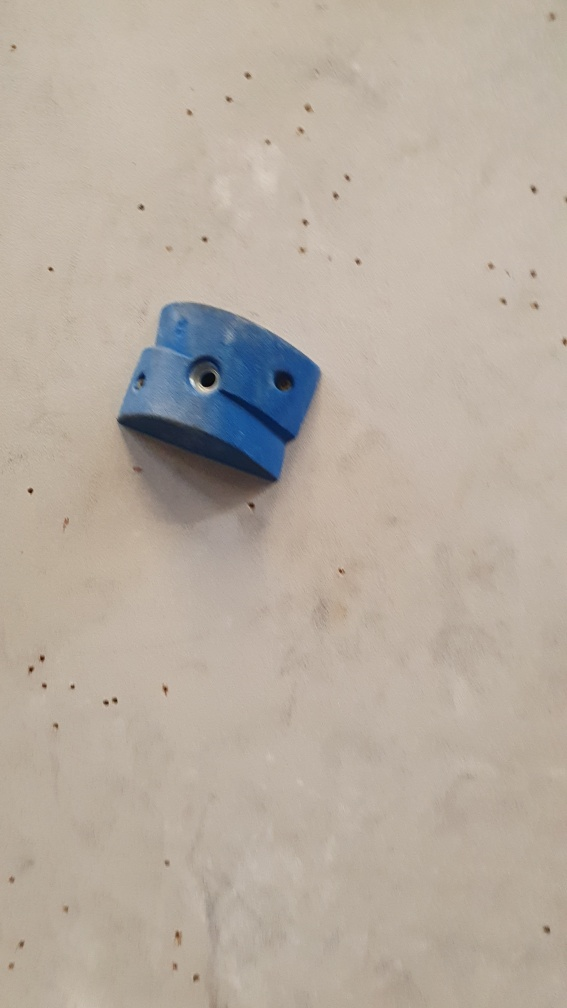Pinch: (111, 296, 319, 489)
